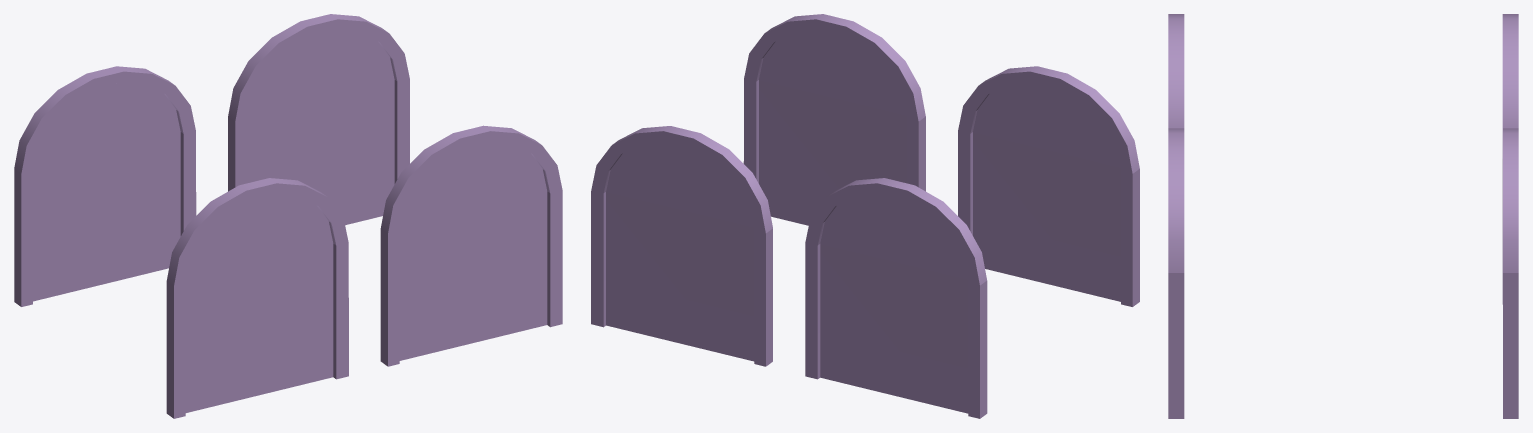
The model's file is char 1.FBX.
The picture shows the model from 3 angles, left to right: view 1: azimuth 30°, elevation 25°; view 2: azimuth 150°, elevation 25°; view 3: azimuth 270°, elevation 25°; orthographic projection. The views are drawn at different scales.
Parts seen in each view (by area): view 1: Cylinder038, Cylinder037, Cylinder039, Cylinder015; view 2: Cylinder039, Cylinder015, Cylinder038, Cylinder037; view 3: Cylinder037, Cylinder015, Cylinder039, Cylinder038.
Boxes of the visible parts, x1=… form: Cylinder038: x1=166, y1=178, x2=348, y2=418; Cylinder037: x1=380, y1=125, x2=562, y2=366; Cylinder039: x1=14, y1=66, x2=196, y2=306; Cylinder015: x1=228, y1=14, x2=409, y2=225; Cylinder039: x1=805, y1=178, x2=987, y2=418; Cylinder015: x1=591, y1=126, x2=772, y2=366; Cylinder038: x1=958, y1=66, x2=1139, y2=306; Cylinder037: x1=743, y1=14, x2=925, y2=225; Cylinder037: x1=1168, y1=128, x2=1184, y2=418; Cylinder015: x1=1503, y1=128, x2=1518, y2=418; Cylinder039: x1=1502, y1=14, x2=1518, y2=304; Cylinder038: x1=1168, y1=14, x2=1184, y2=128.
Bounding box in the file's own units: 684 × 354 × 488.
